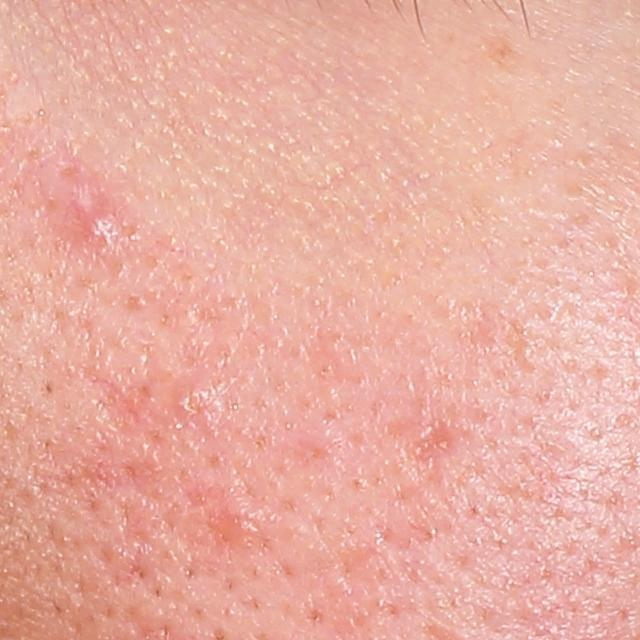melasma: (466, 31, 526, 73)
papule: (176, 363, 243, 429), (211, 492, 260, 542), (80, 207, 119, 243)
